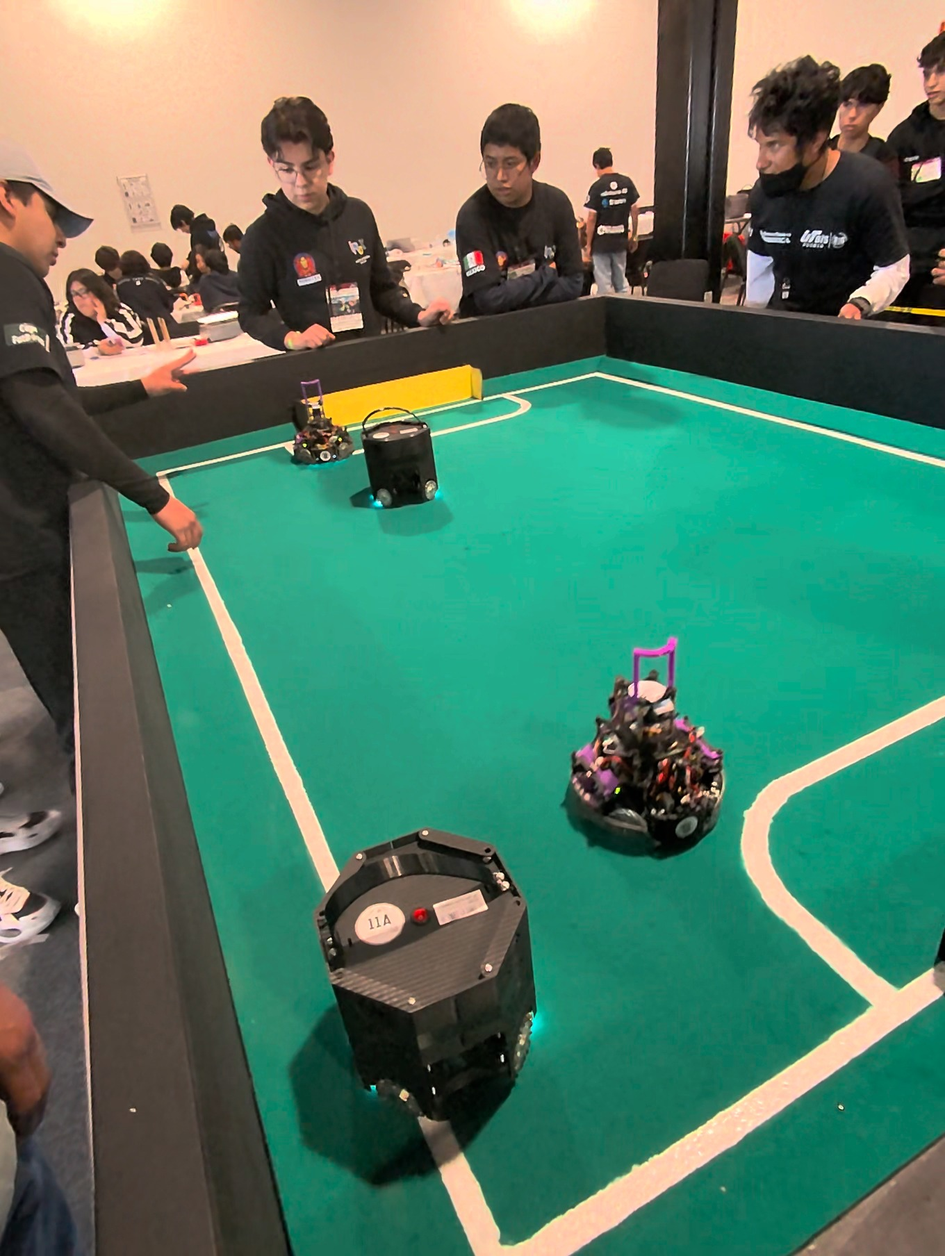Robot: (313, 813, 557, 1125), (568, 662, 726, 863), (358, 399, 451, 533), (289, 378, 351, 469)
